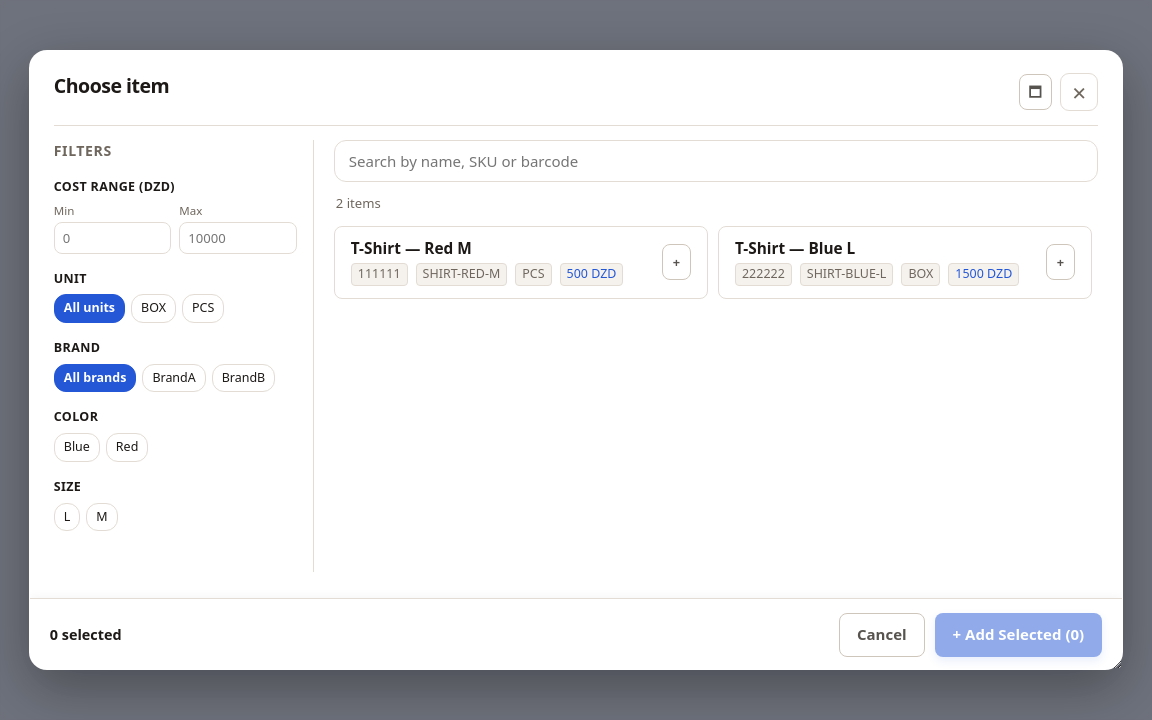
Test: PurchaseItemPicker - side filters › filters by cost range
In the number field with test id "filter-min-cost": (113, 238) x1=54 y1=222 x2=171 y2=254, type "1000"
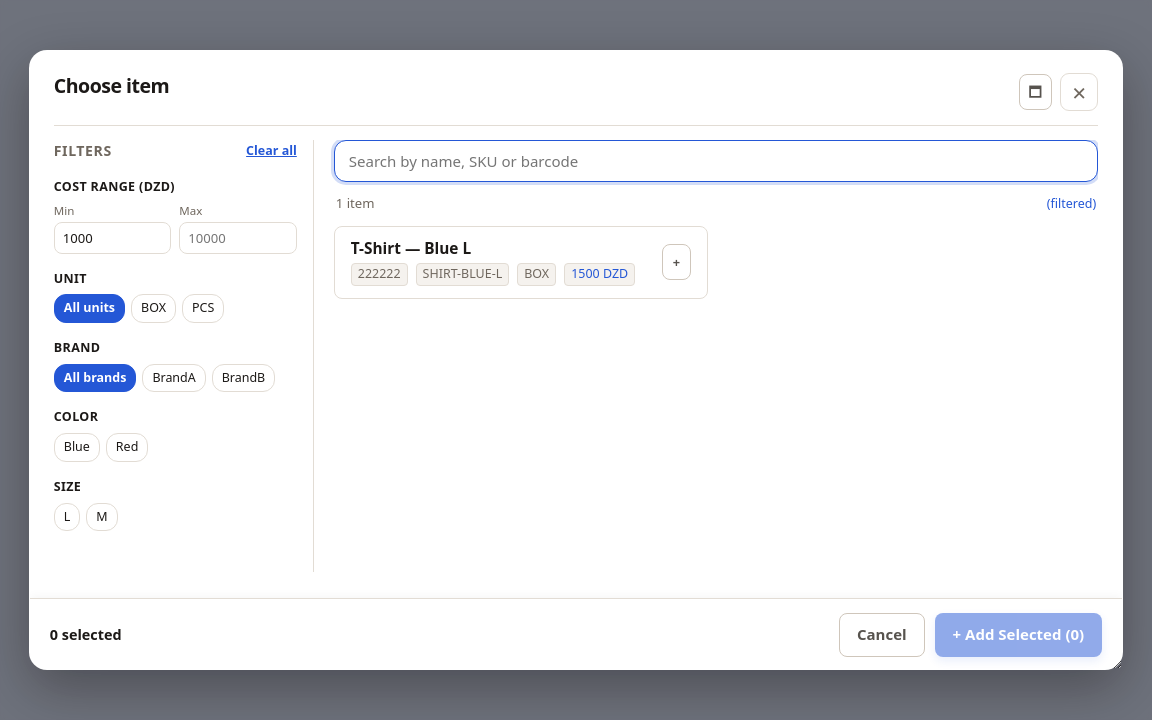
Expected: the button with test id "purchase-item-option-102" is shown, x1=334 y1=226 x2=708 y2=299
Now the button with test id "purchase-item-option-101" is gone
